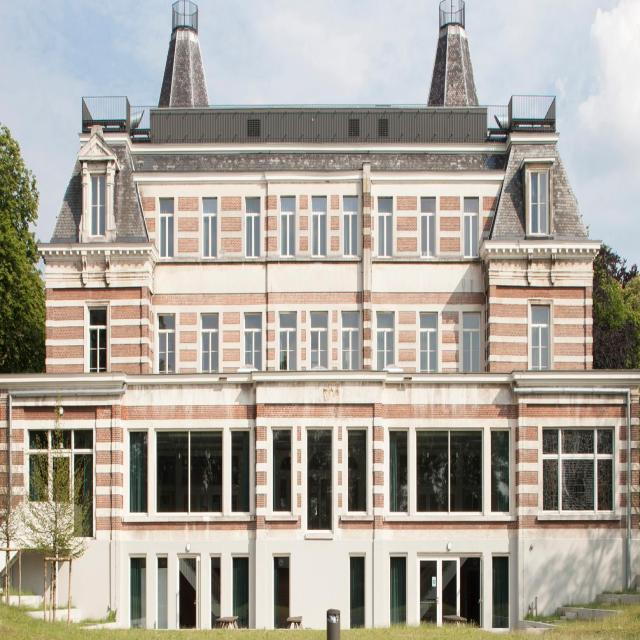Railing: (486, 96, 555, 144), (81, 97, 151, 144), (172, 5, 198, 36), (438, 5, 464, 30)
door: (418, 558, 461, 630)
plant: (0, 127, 47, 376), (591, 253, 640, 374)
wall: (1, 5, 640, 633)
windows: (416, 432, 510, 514), (29, 430, 92, 538), (542, 430, 613, 514), (156, 432, 223, 514), (308, 431, 332, 530), (230, 430, 251, 514), (178, 556, 200, 634), (272, 431, 292, 510), (128, 432, 146, 513), (348, 432, 366, 512), (528, 170, 550, 235), (530, 306, 550, 374), (389, 431, 406, 510), (491, 556, 509, 629), (390, 556, 408, 628), (349, 555, 366, 630), (130, 557, 147, 630), (419, 313, 437, 375), (233, 558, 248, 631), (376, 312, 394, 372), (273, 557, 288, 629), (88, 311, 105, 374), (462, 315, 480, 374), (244, 314, 262, 371), (342, 315, 360, 371), (279, 313, 296, 372), (244, 199, 260, 258), (158, 316, 174, 374), (310, 315, 327, 369), (377, 199, 392, 260), (420, 198, 435, 258), (202, 317, 218, 373), (311, 198, 326, 256), (463, 200, 478, 256), (90, 176, 104, 235), (202, 200, 216, 258), (280, 199, 294, 257), (157, 558, 168, 631), (343, 198, 356, 256), (160, 202, 173, 258), (212, 558, 220, 630)
